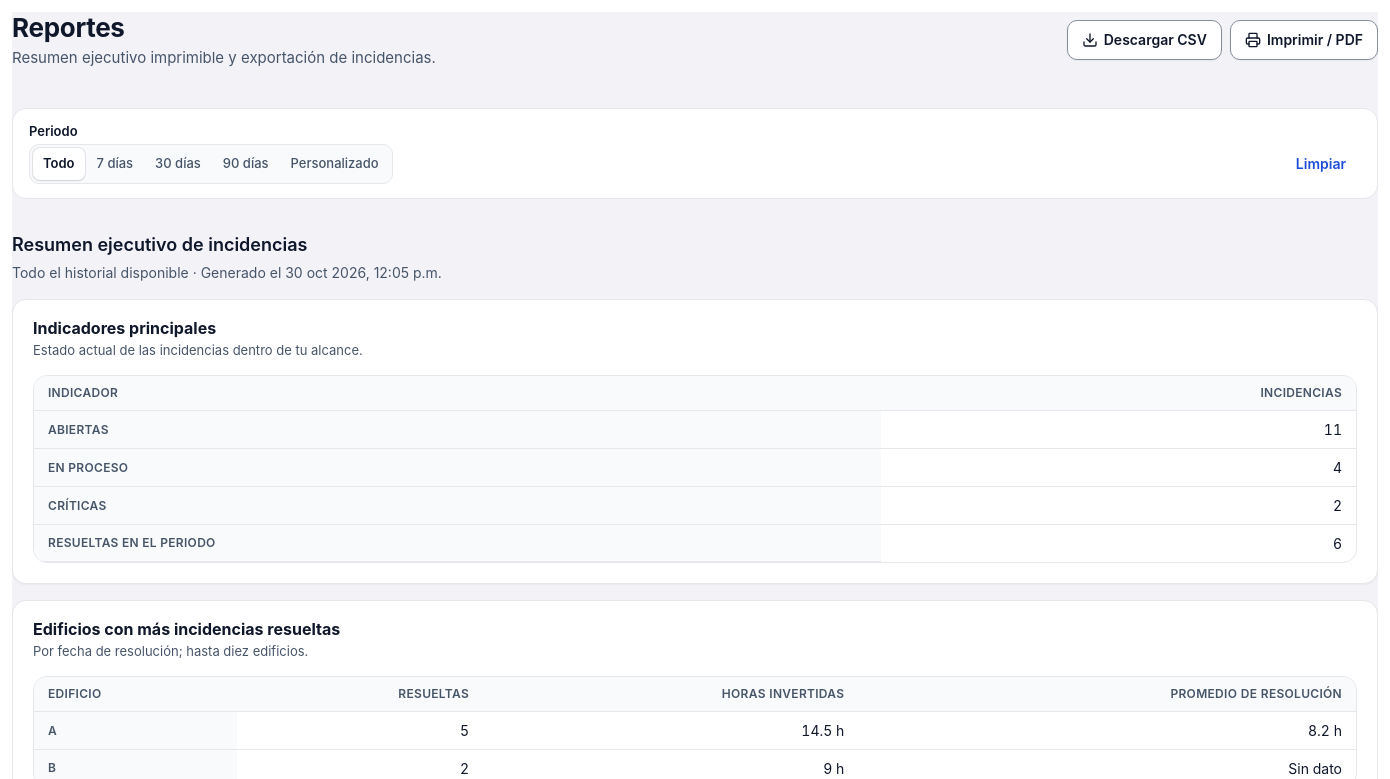
Reportes › descarga CSV del periodo con BOM y etiquetas legibles
Expected: the table named "Indicadores principales" is shown, [34, 376, 1356, 562]
Click the button "Personalizado" at [335, 164], box [281, 148, 389, 180]
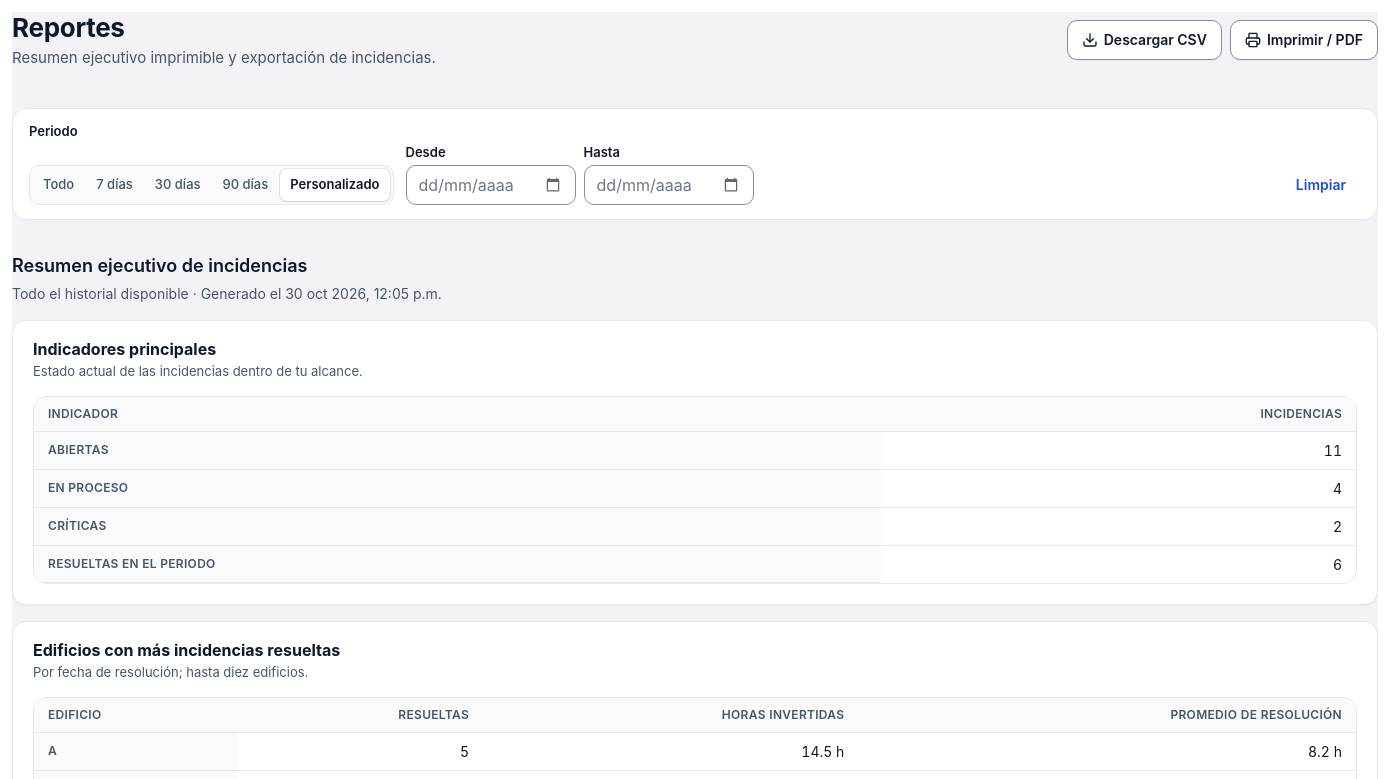
Type "2026-10-01" into the date field labelled "Desde" at [490, 185], box [406, 165, 576, 205]
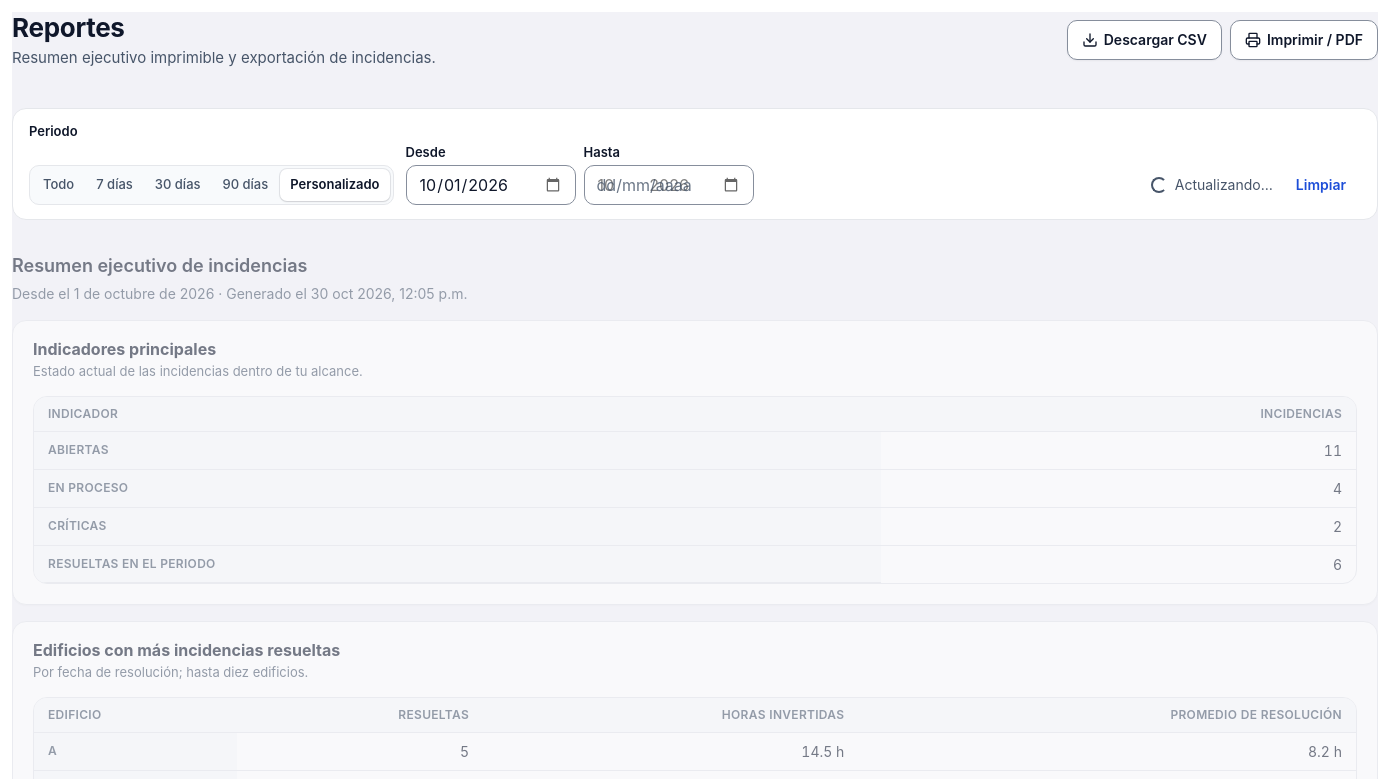
Click the button "Descargar CSV" at [1144, 40], box [1067, 20, 1222, 60]
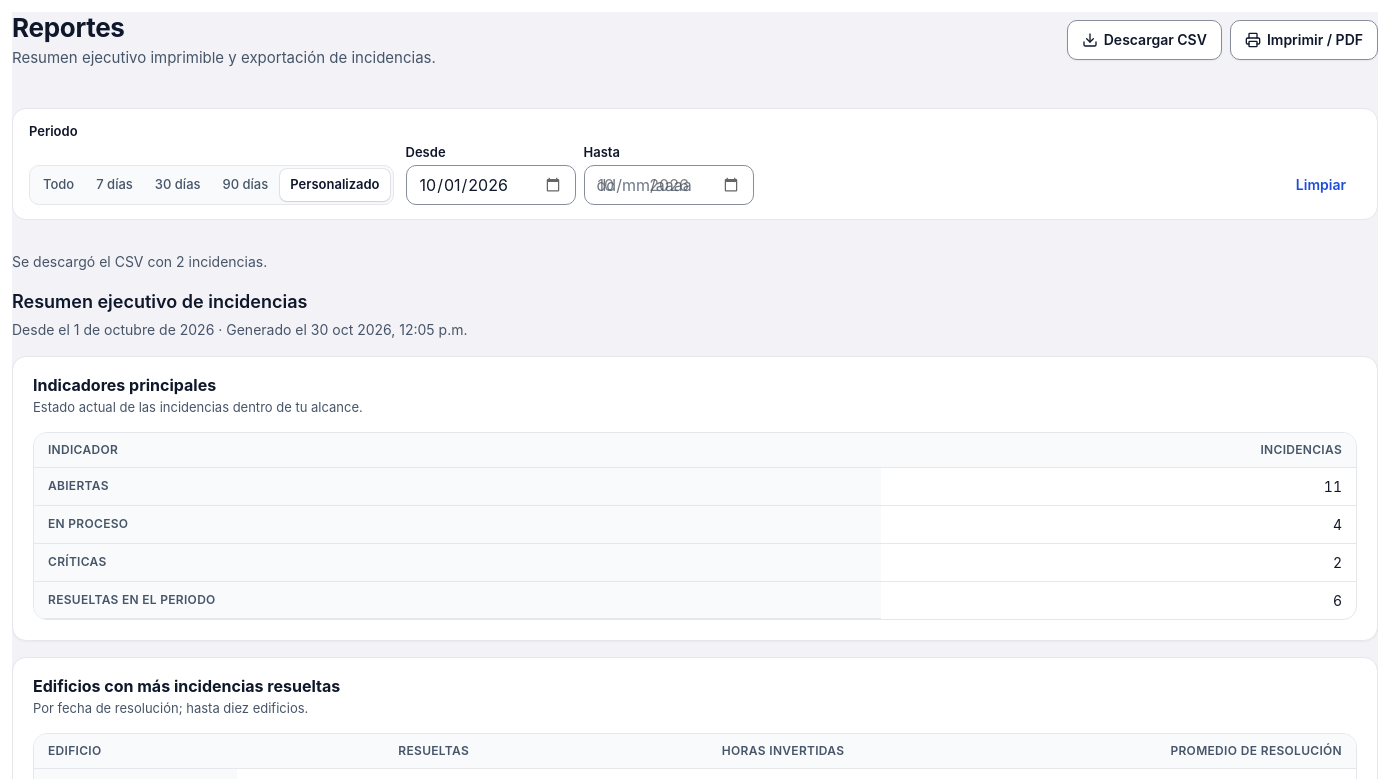
Expected: the text "Se descargó el CSV con 2 incidencias." is shown, [12, 253, 267, 270]
